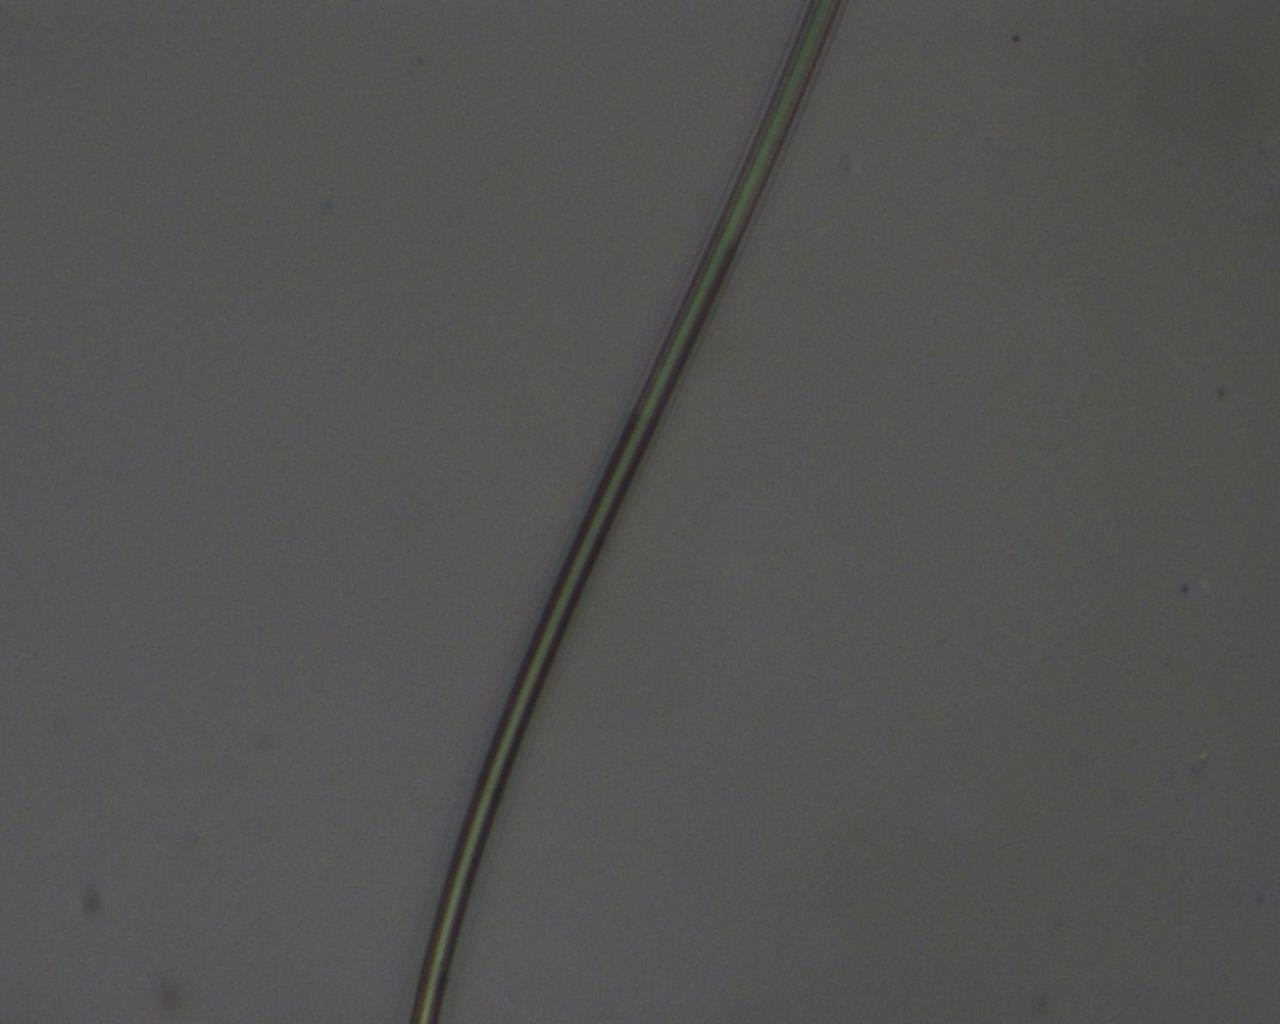fiber: (127, 247, 1151, 735)
